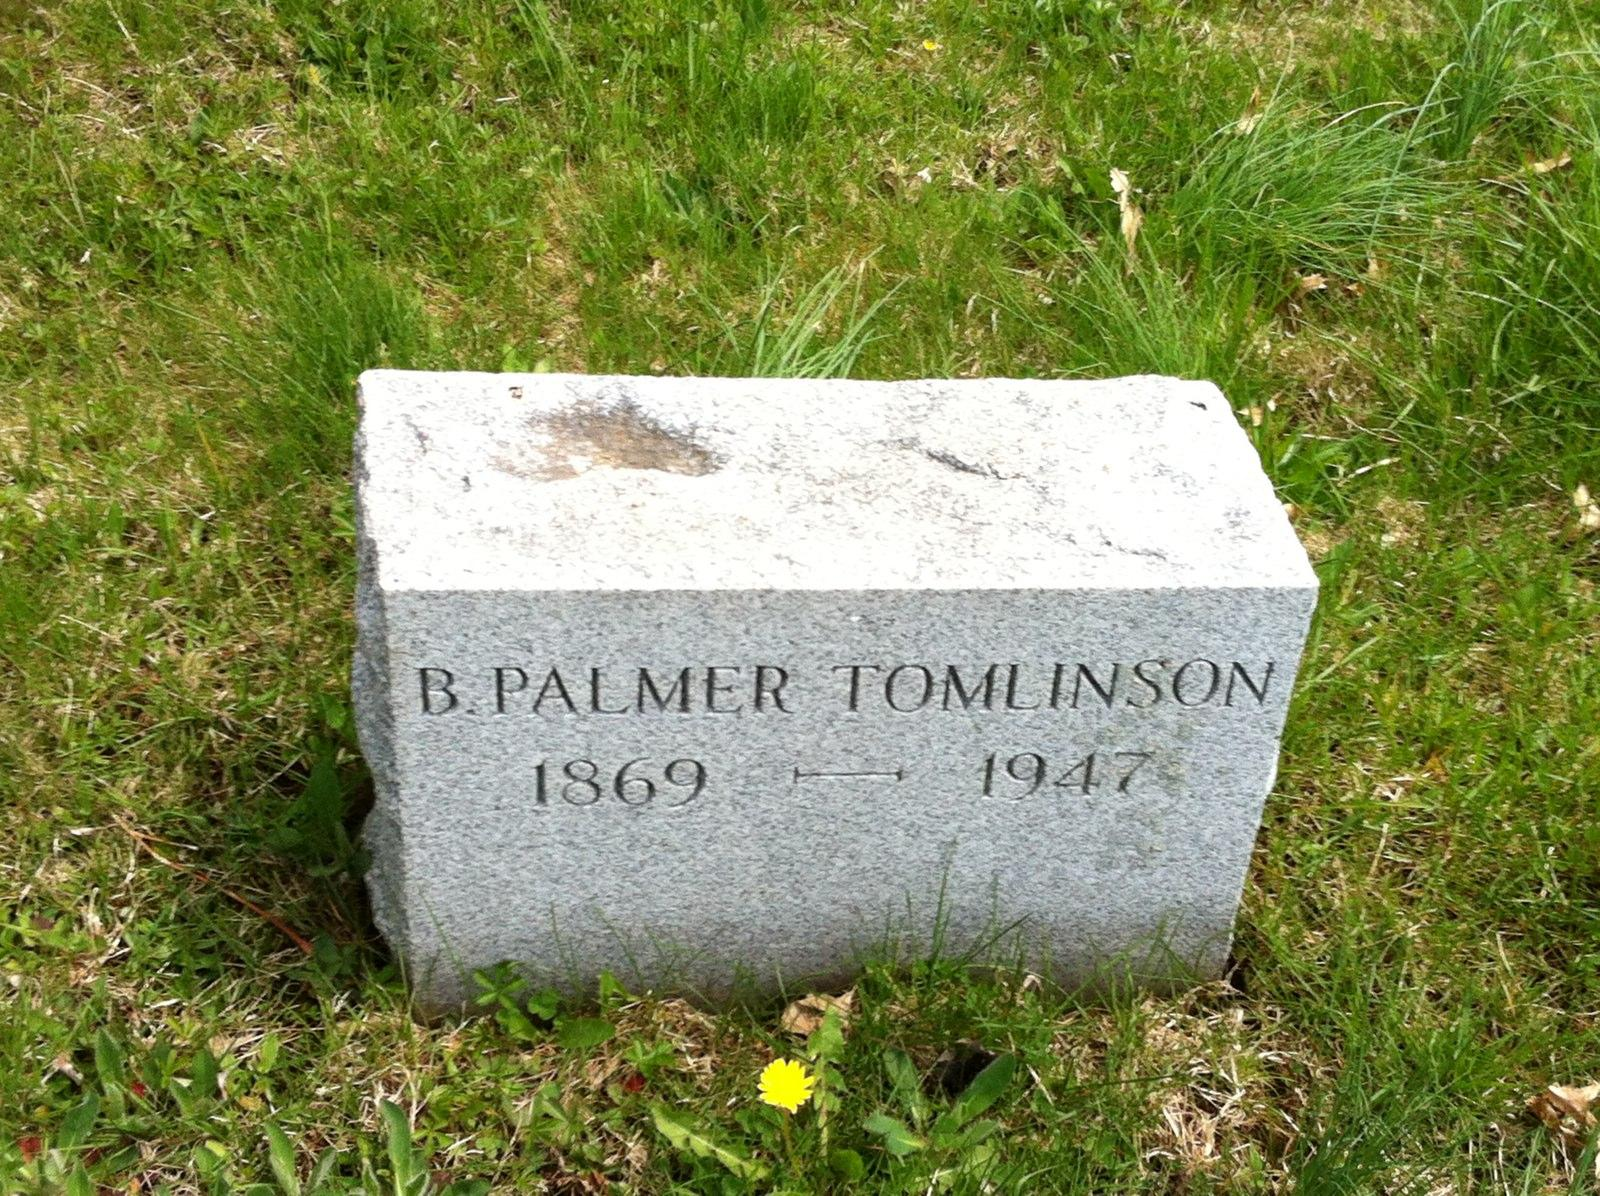upright: (315, 339, 1327, 1029)
